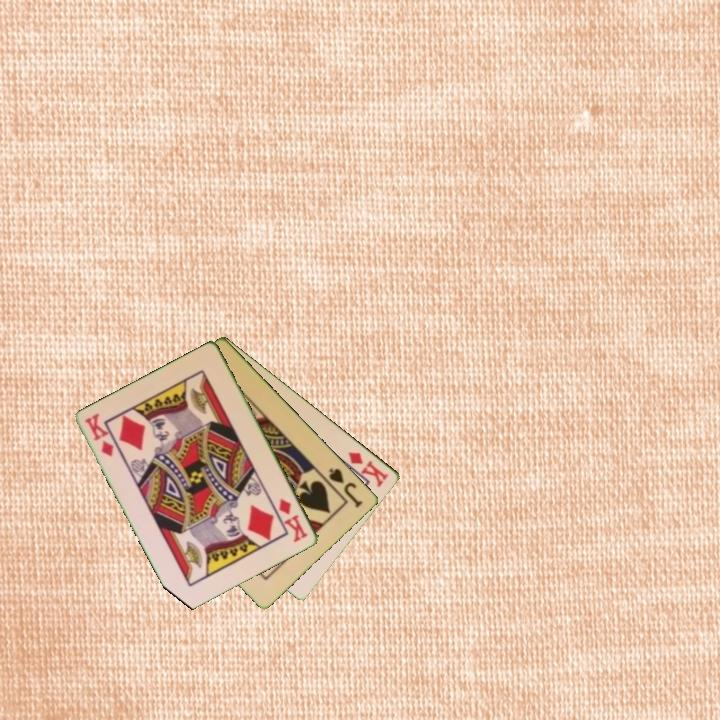Js: (326, 464, 366, 511)
Kd: (345, 448, 392, 490), (275, 495, 311, 545), (81, 410, 117, 460)
